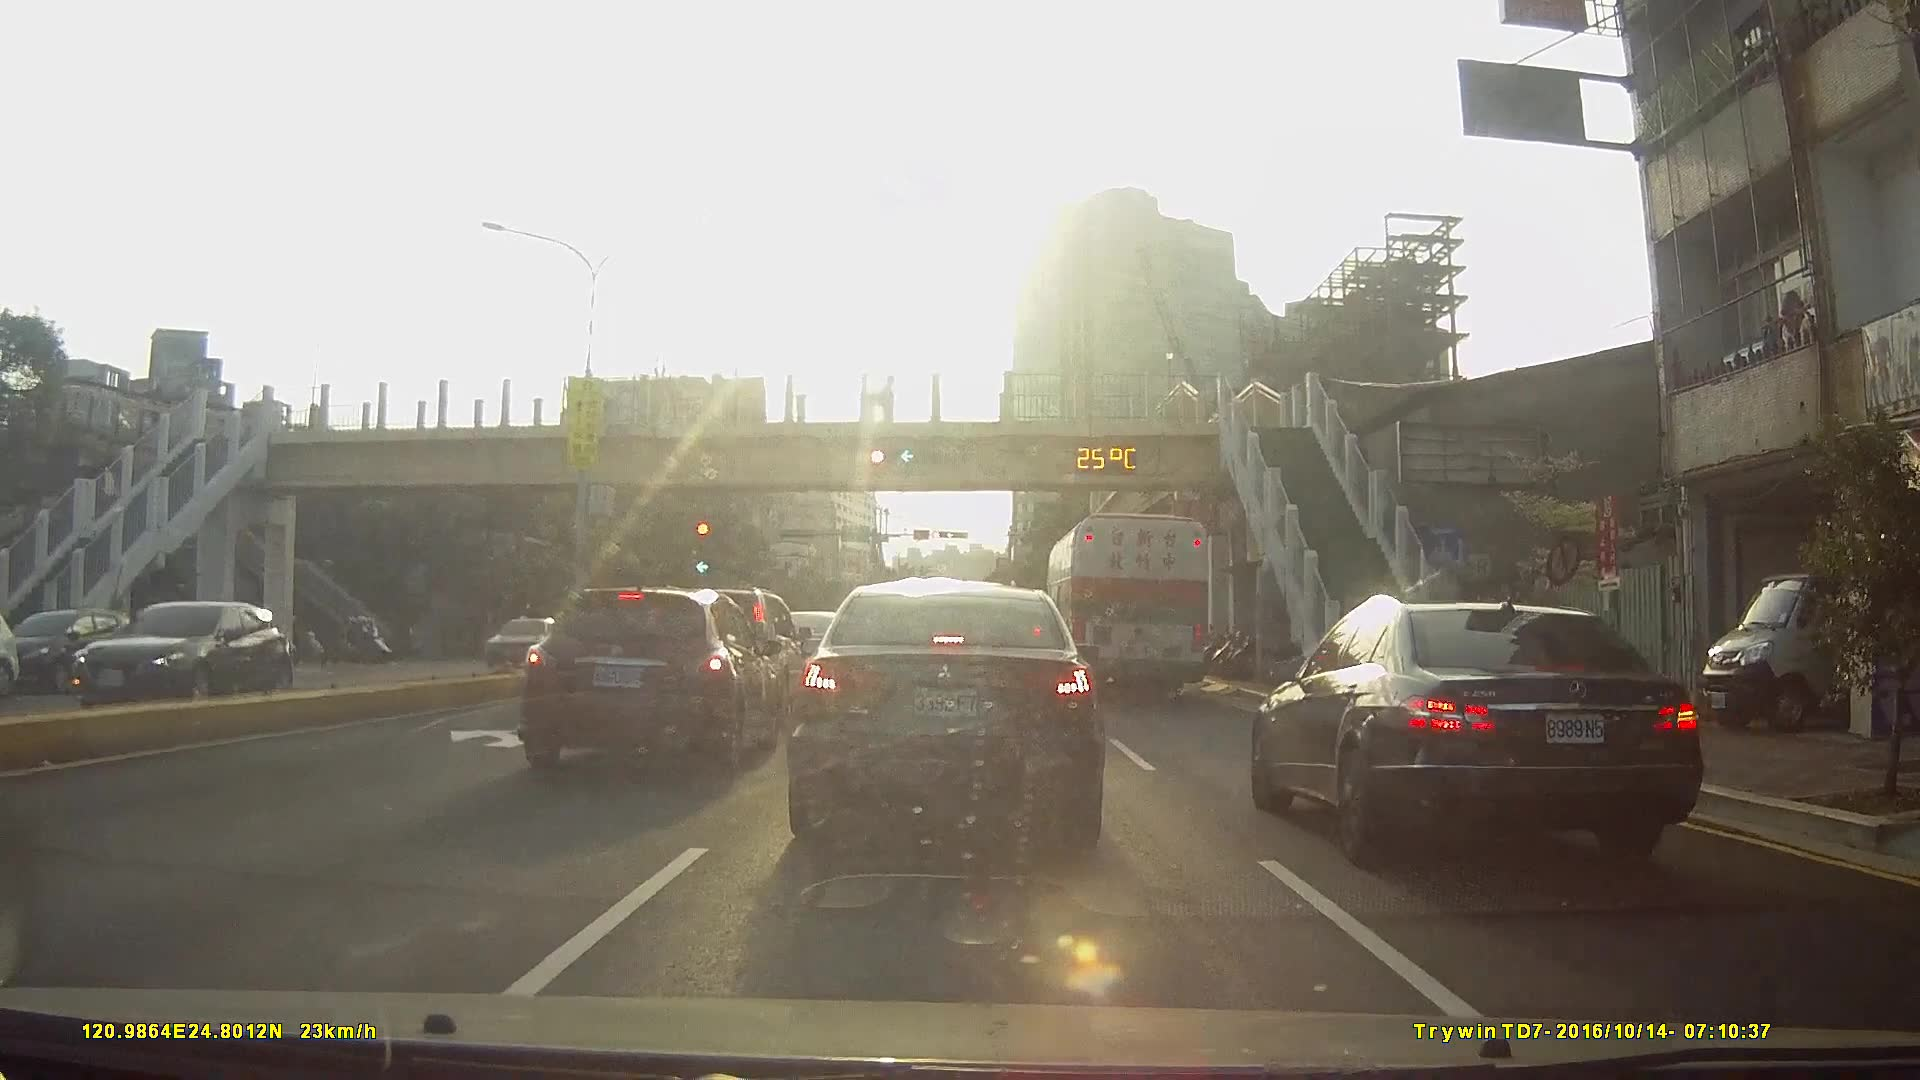pedestrian: (877, 376, 899, 425)
rider: (331, 615, 400, 670)
vehicle: (1245, 594, 1695, 866), (781, 579, 1108, 851), (511, 581, 785, 780), (1044, 512, 1211, 700), (45, 598, 274, 715), (3, 606, 145, 690), (478, 615, 565, 669)
